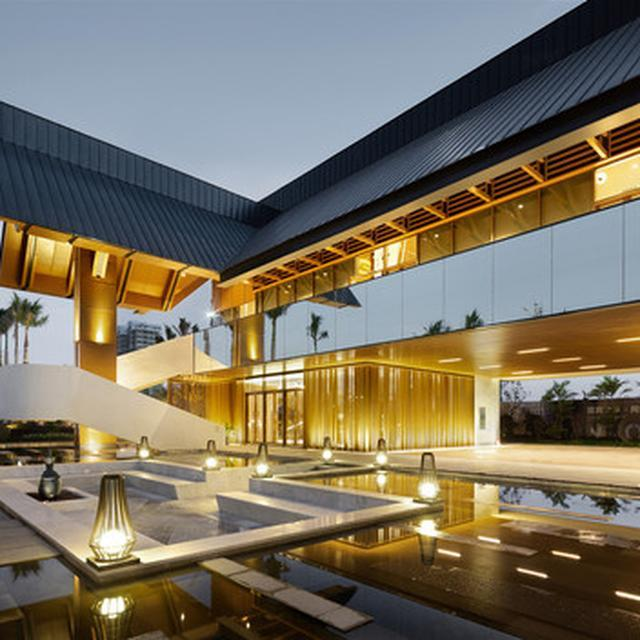building: (3, 0, 640, 451)
